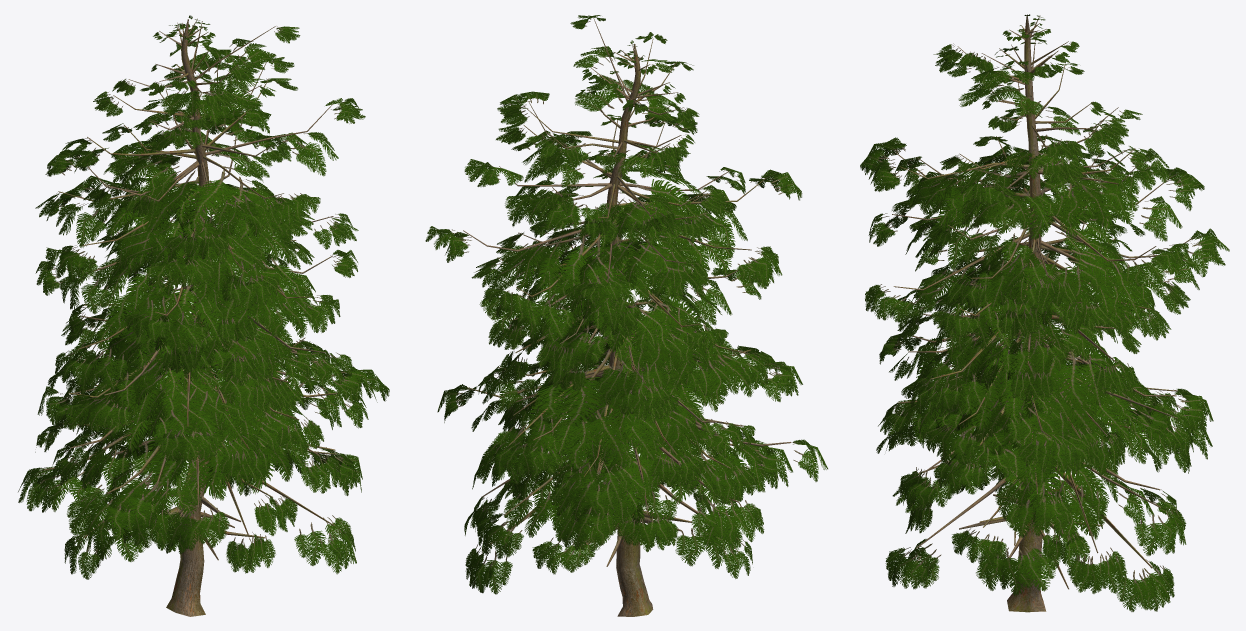
Rendered from SM_Spruce03.fbx.
3 renders of one model, left to right at view 1: azimuth 30°, elevation 25°; view 2: azimuth 150°, elevation 25°; view 3: azimuth 270°, elevation 25°, orthographic. The views are drawn at different scales.
Visible parts, largest first — view 1: SM_Spruce03_LOD0; view 2: SM_Spruce03_LOD0; view 3: SM_Spruce03_LOD0.
Boxes of the visible parts, x1,y1,x2,y2 form: SM_Spruce03_LOD0: [18, 15, 389, 616]; SM_Spruce03_LOD0: [425, 15, 827, 616]; SM_Spruce03_LOD0: [860, 14, 1229, 612].
Bounding box in the file's own units: 1291 × 1189 × 2091.
